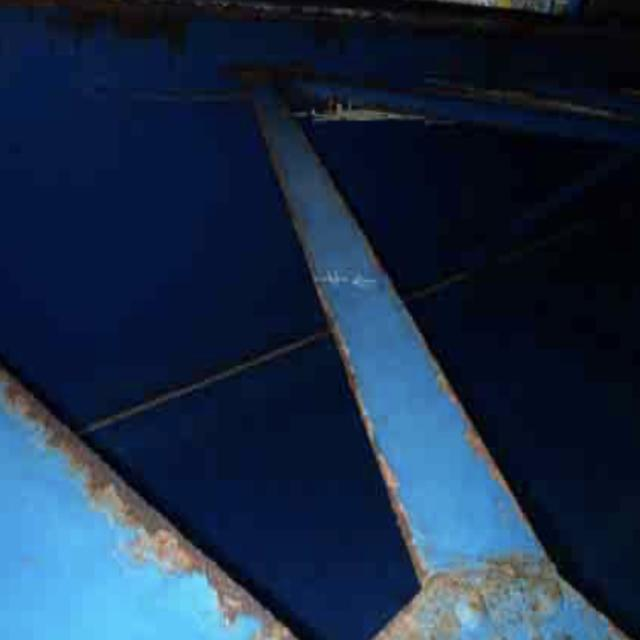corrosion: (11, 385, 559, 640)
